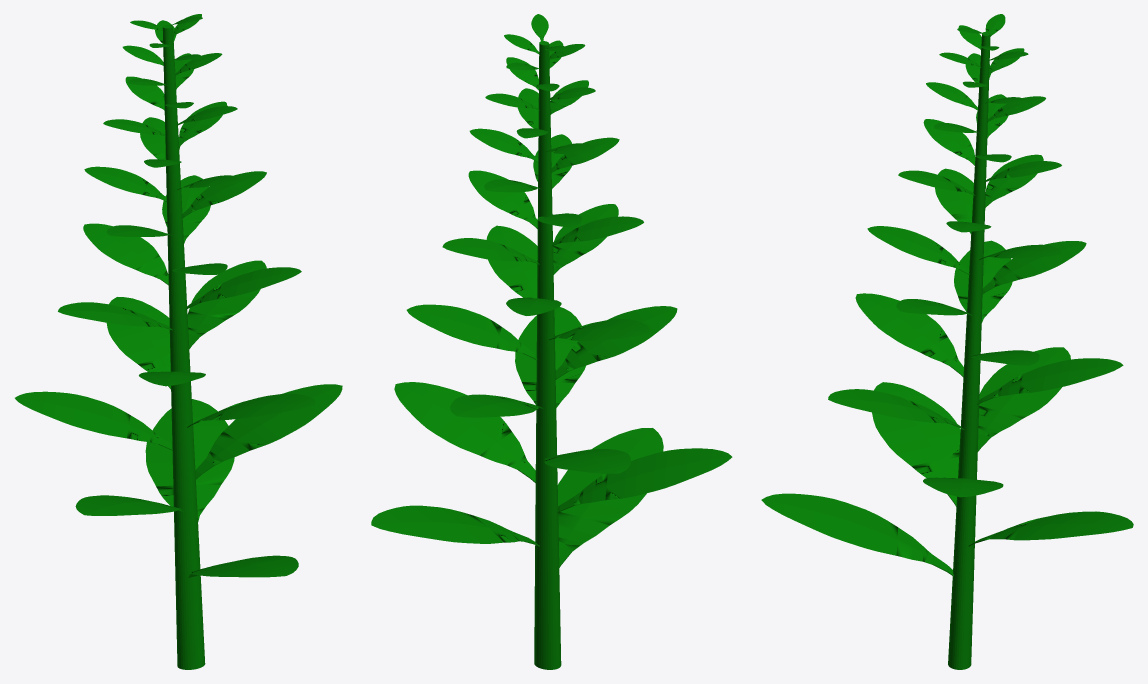
The model's file is planta-desp-de-abonar.fbx.
3 renders of one model, left to right at view 1: azimuth 30°, elevation 25°; view 2: azimuth 150°, elevation 25°; view 3: azimuth 270°, elevation 25°, orthographic.
Visible parts, largest first — view 1: Círculo, Cilindro; view 2: Círculo, Cilindro; view 3: Círculo, Cilindro.
Part boxes in pixels (bbox=[...]): Círculo: bbox=[15, 14, 342, 577]; Cilindro: bbox=[162, 24, 205, 669]; Círculo: bbox=[371, 14, 732, 567]; Cilindro: bbox=[534, 41, 561, 669]; Círculo: bbox=[761, 14, 1133, 576]; Cilindro: bbox=[948, 31, 990, 669].
Bounding box in the file's own units: 576 × 1196 × 632.
